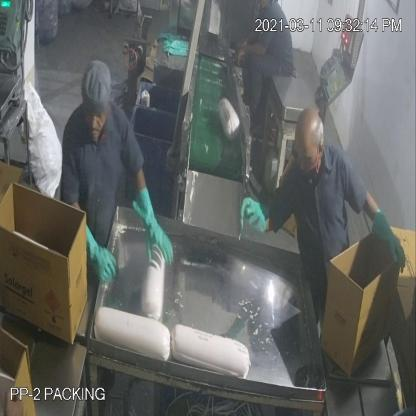glove: (125, 173, 178, 279), (76, 202, 121, 290), (366, 200, 407, 274), (239, 189, 273, 244)
